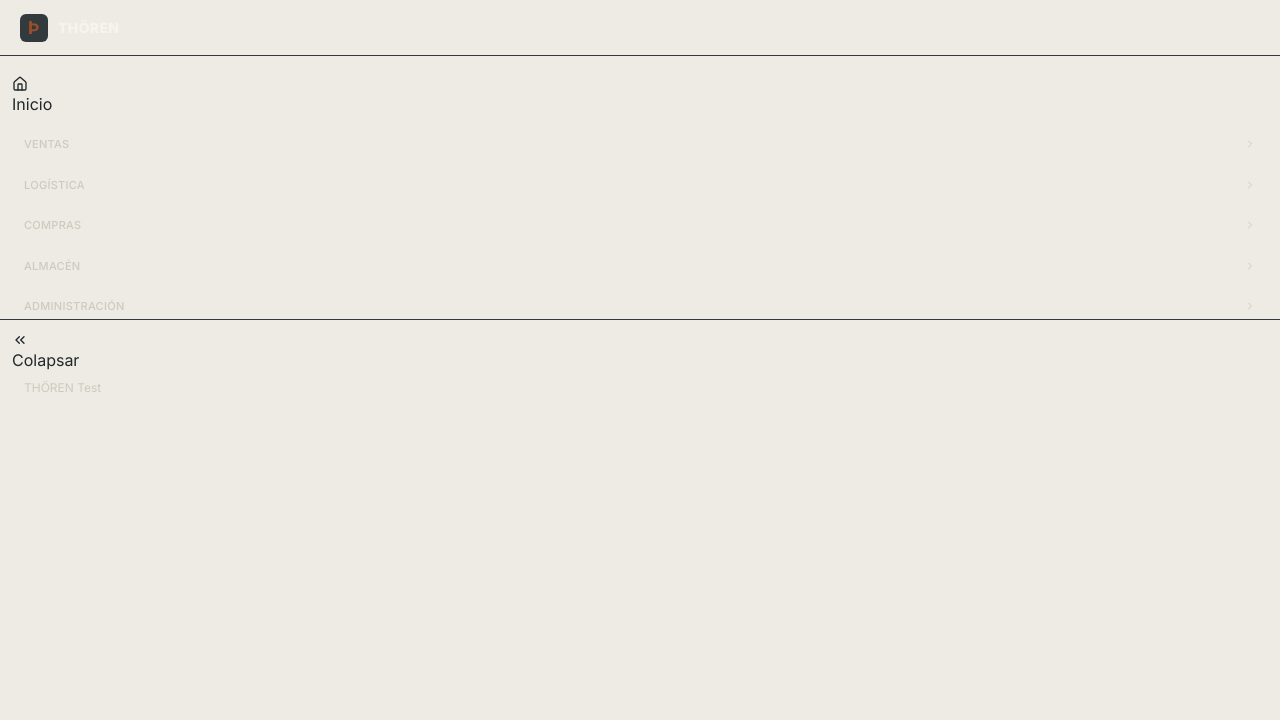
Scenario: Sidebar — control de acceso por departamentos (filtro ADITIVO sobre el de siempre) › transición segura — sin ninguna asignación todavía, un vendedor conserva exactamente su acceso actual
Click the button "Ventas": {"x": 47, "y": 144} [12,132,1268,156]
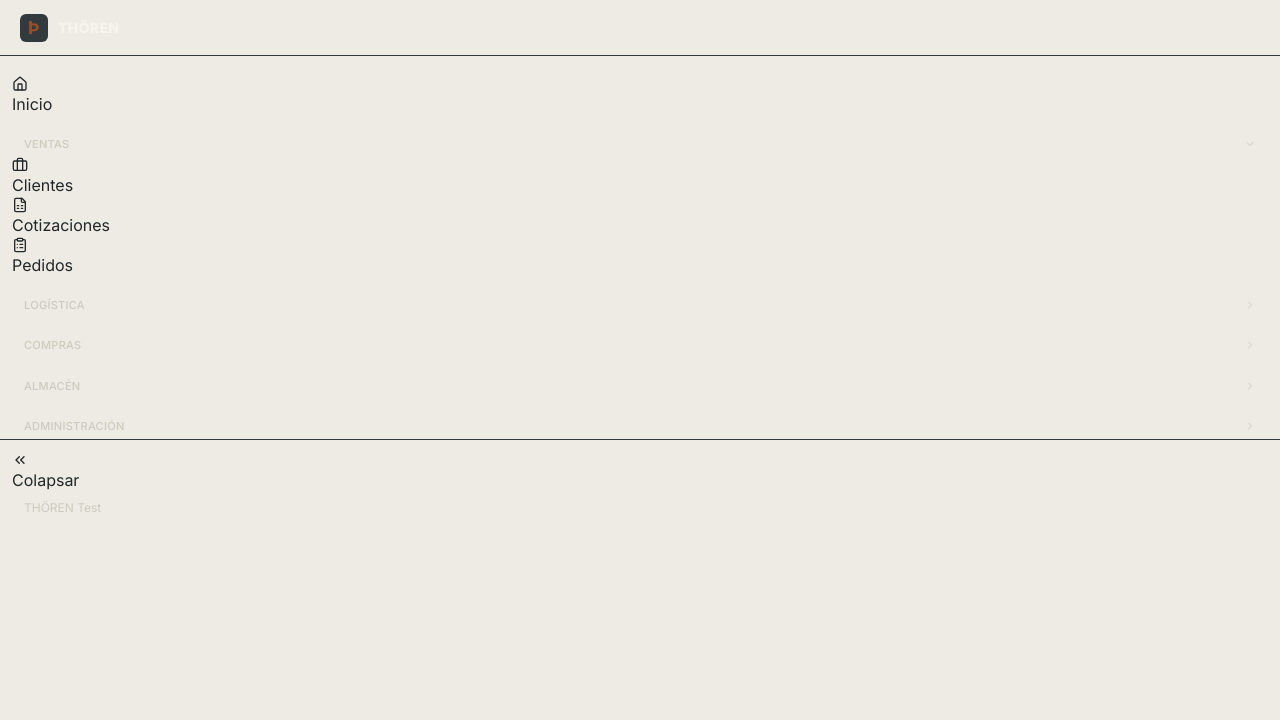
Click the button "Compras": {"x": 53, "y": 345} [12,333,1268,358]
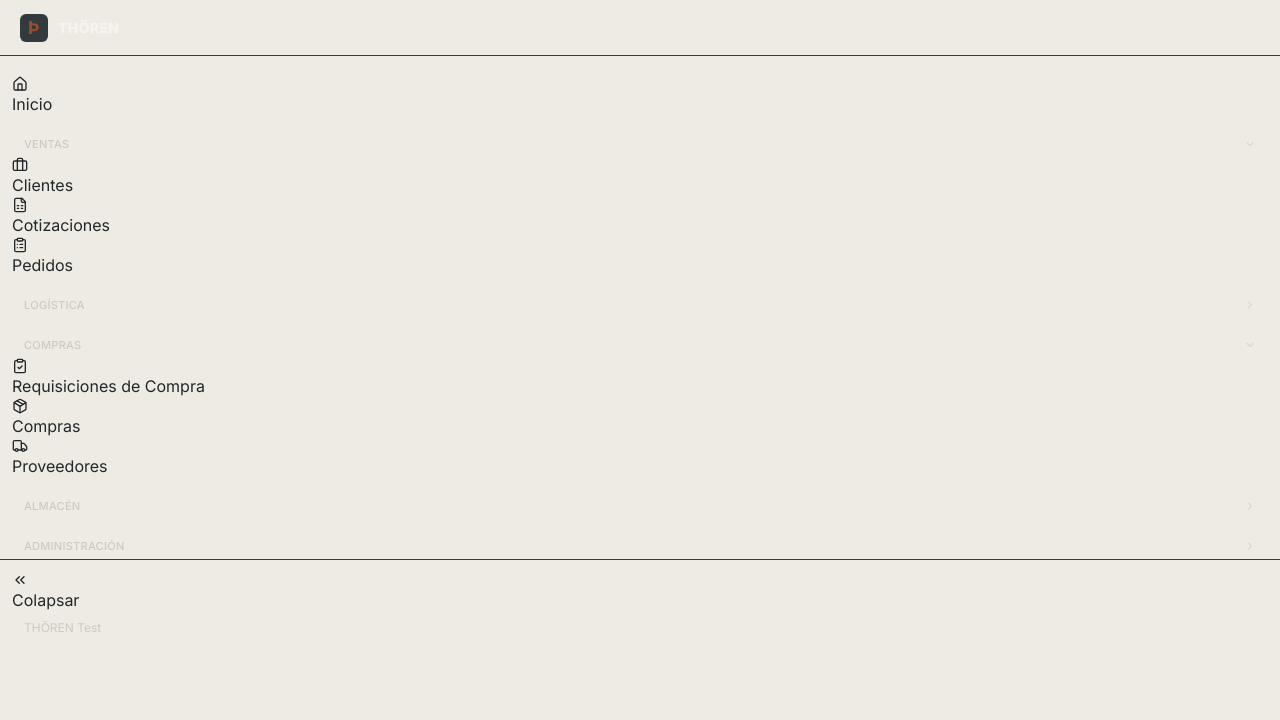
Expected: the link "Clientes" is shown, [12,156,73,194]
Expected: the link "Compras" is shown, [12,398,80,436]
